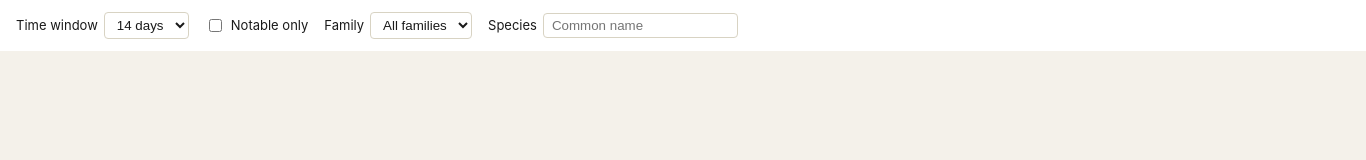
Test: FiltersBar › no-match commit renders a status hint, keeps the value, and does not change speciesCode
This screenshot has width=1366, height=160.
Type "Zzzzz not a bird" into the search field labelled "Species" at x=640, y=26, box x1=543 y1=13 x2=738 y2=38
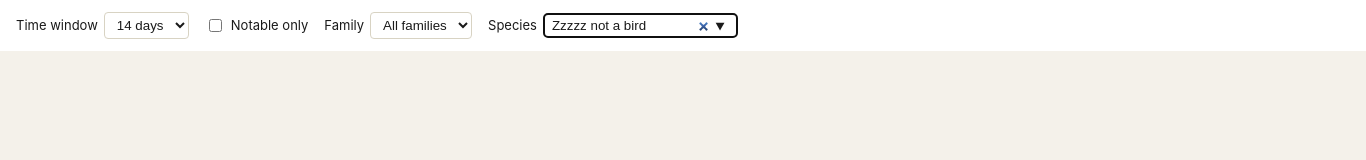
Press Enter
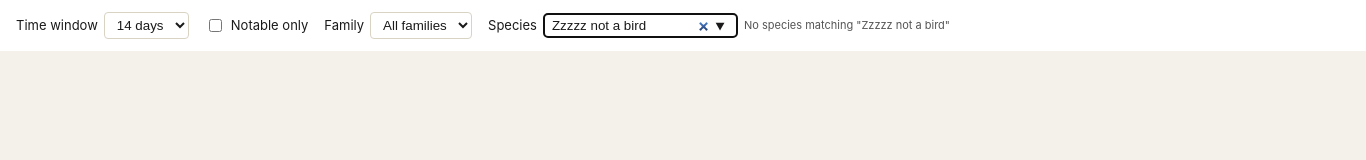
Expected: the message reads "No species matching \"Zzzzz not a bird\"", x1=744 y1=18 x2=950 y2=33
